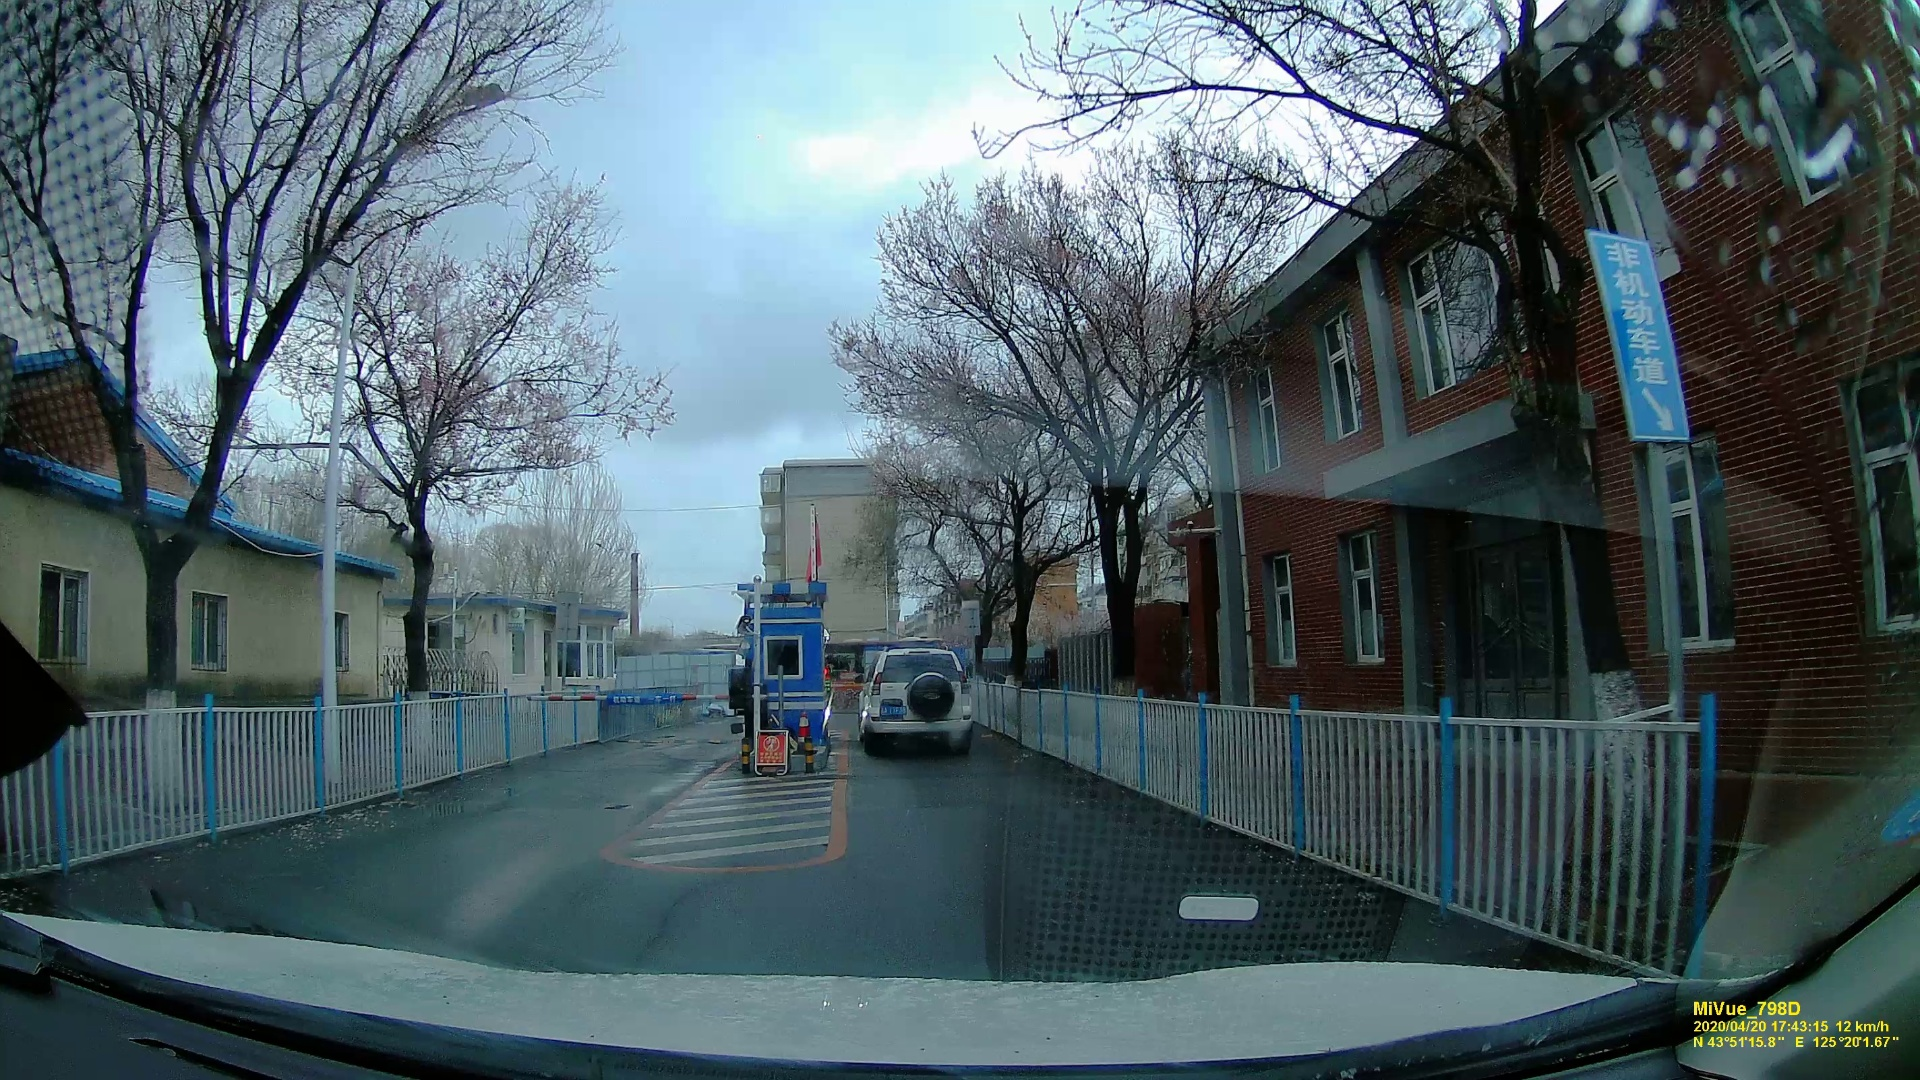traffic_sign: (1592, 235, 1689, 444), (749, 732, 785, 773)
vehicle: (853, 644, 980, 758)
